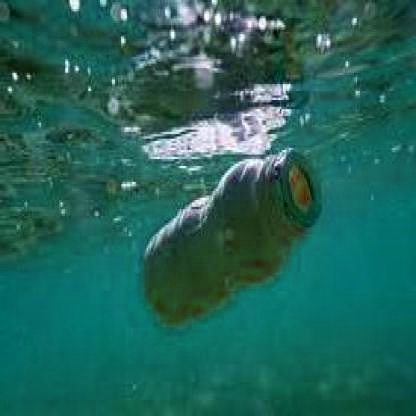pbottle: (132, 146, 324, 330)
